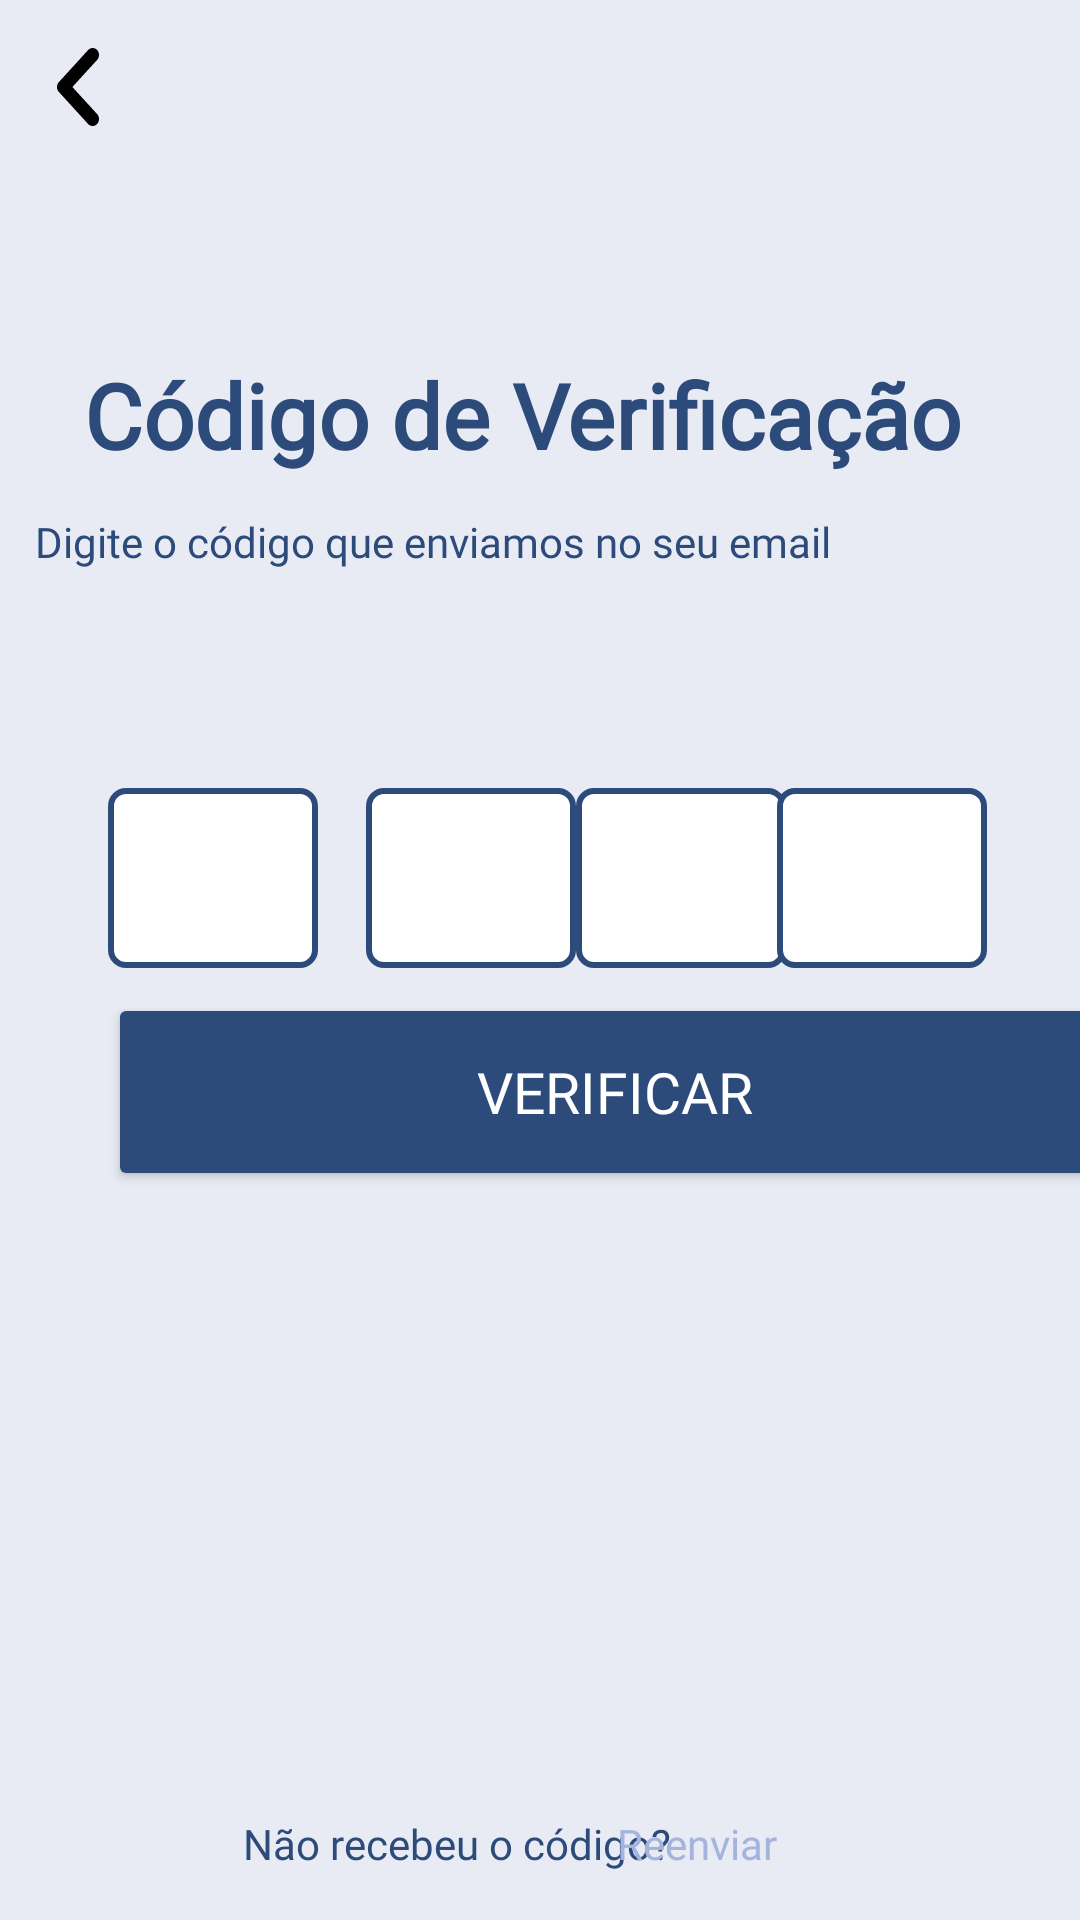

Locate icon controls on the screen. Image size 1080x1920, boxes as (x1, y1, x2, y2).
seta: (57, 48, 99, 126)
